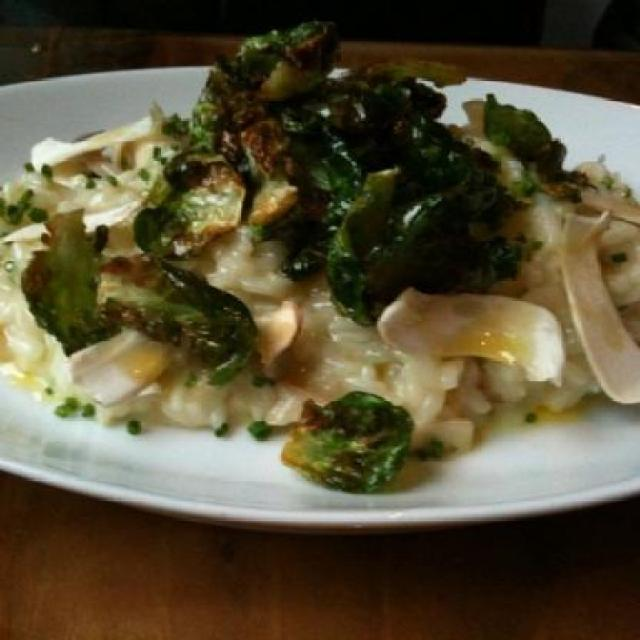Risotto: (8, 128, 640, 472)
